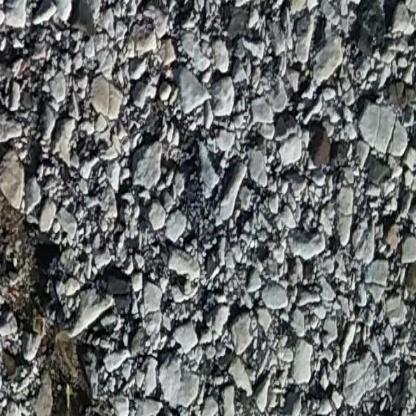Cracks: (0, 182, 132, 416)
